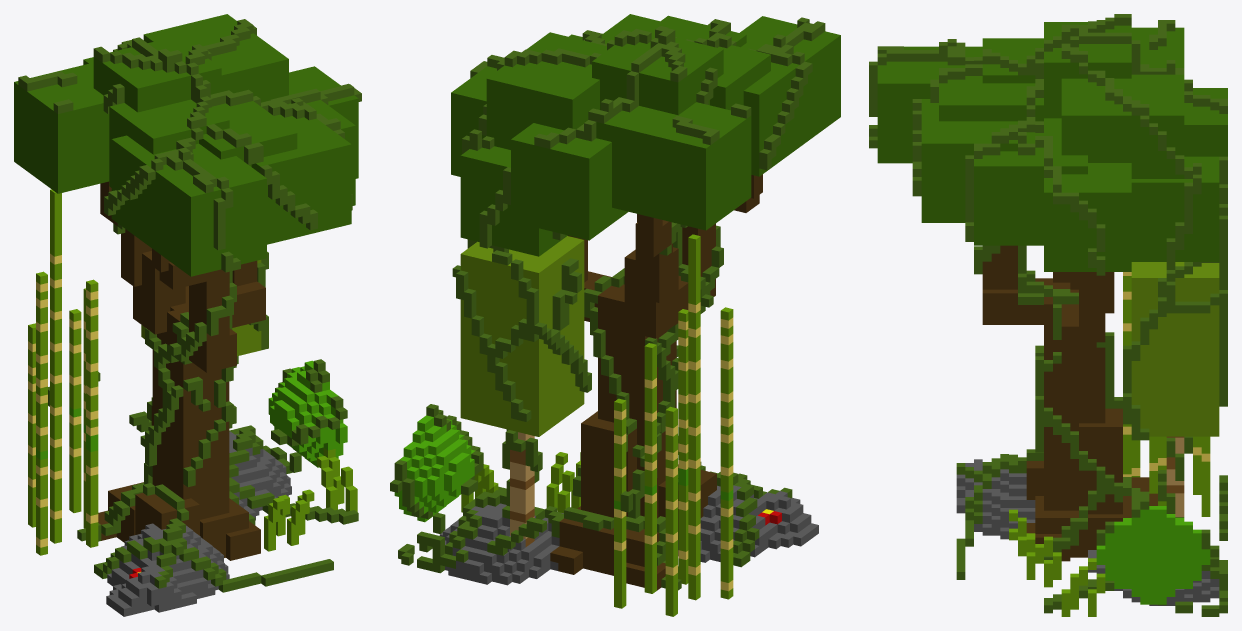
File: Tiles 2 morceau 3.obj
3 renders of one model, left to right at view 1: azimuth 30°, elevation 25°; view 2: azimuth 150°, elevation 25°; view 3: azimuth 270°, elevation 25°, orthographic. The views are drawn at different scales.
Parts seen in each view (by area): view 1: Tiles 2 morceau 3; view 2: Tiles 2 morceau 3; view 3: Tiles 2 morceau 3.
Part boxes in pixels (x1,y1,x2,y2): Tiles 2 morceau 3: [14, 14, 361, 616]; Tiles 2 morceau 3: [390, 14, 840, 616]; Tiles 2 morceau 3: [869, 14, 1227, 616].
Size of the model in its own units: 38 by 63 by 41.
Materials: 1 (1 with a texture image).
